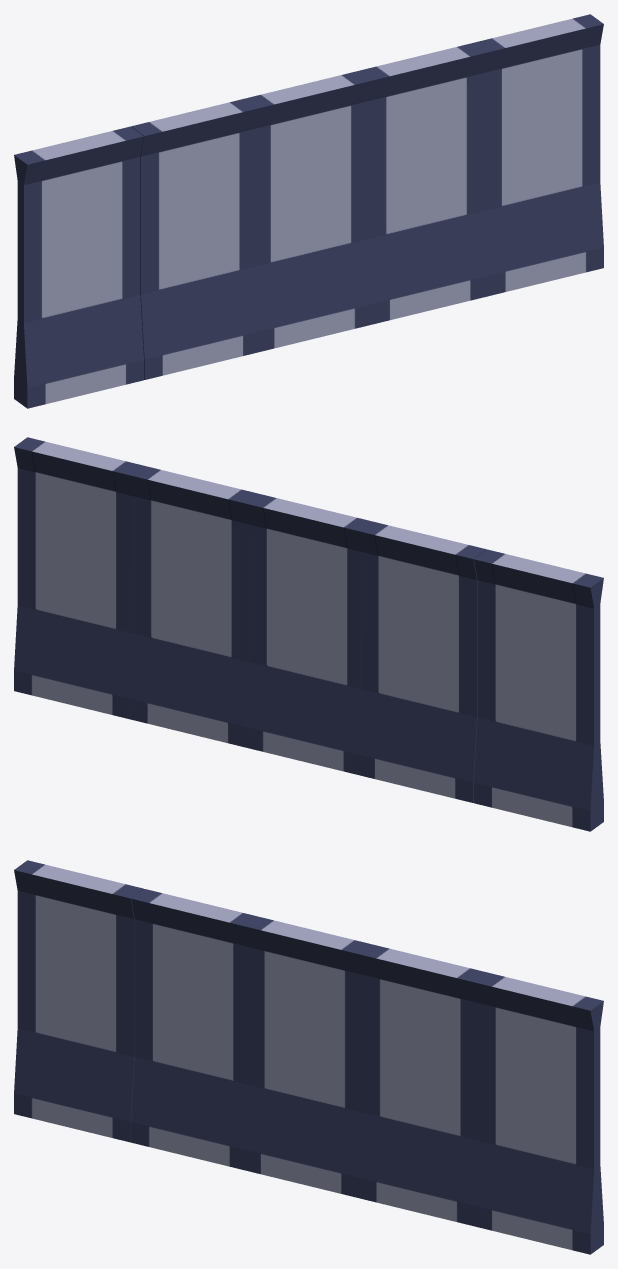
The model's file is 5Wall.fbx.
The picture shows the model from 3 angles, top to bottom: view 1: azimuth 30°, elevation 25°; view 2: azimuth 150°, elevation 25°; view 3: azimuth 330°, elevation 25°; orthographic projection.
Visible parts, largest first — view 1: Cube.010; view 2: Cube.010; view 3: Cube.010.
Part boxes in pixels (x1,y1,x2,y2): Cube.010: [14, 14, 603, 408]; Cube.010: [14, 437, 603, 831]; Cube.010: [14, 860, 603, 1254].
Bounding box in the file's own units: 742 × 300 × 30.
